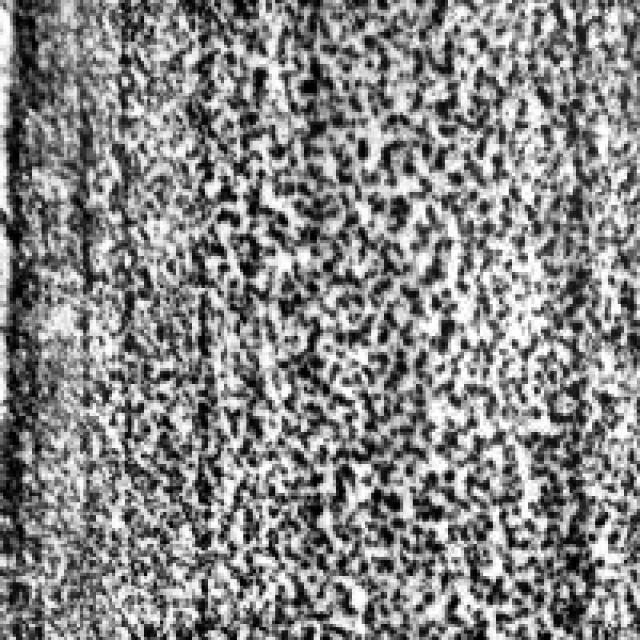Rolled_in_Scale: (198, 0, 634, 637)
